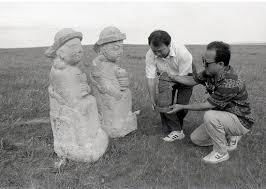Stone Statue: (37, 21, 116, 168), (90, 18, 143, 144)
